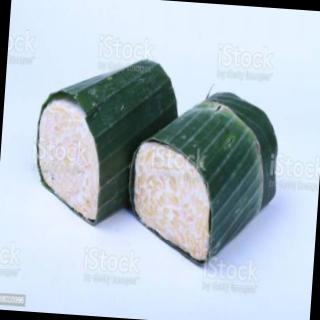Tempe: (122, 83, 285, 274), (27, 50, 170, 235)
